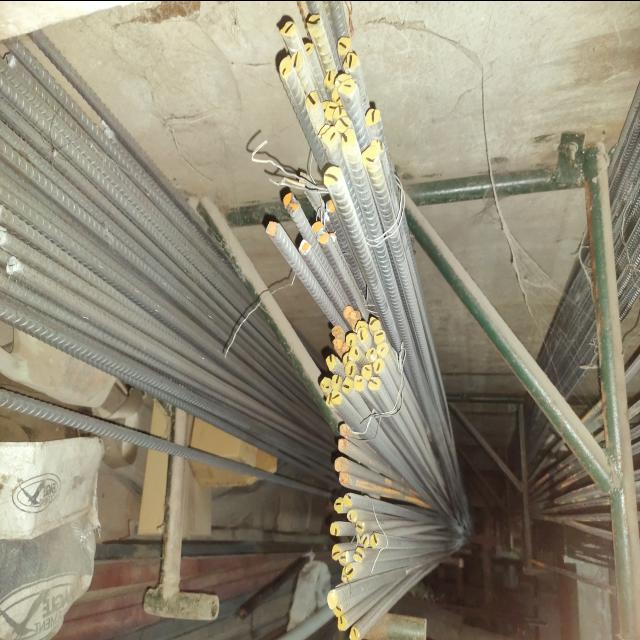Rebar: (325, 167, 341, 186), (364, 146, 378, 164), (346, 52, 361, 68), (367, 109, 381, 125), (338, 37, 352, 53), (341, 82, 356, 96), (336, 74, 350, 88), (308, 14, 322, 28), (326, 128, 339, 143), (338, 118, 351, 133), (327, 102, 338, 119), (329, 591, 339, 609), (373, 139, 385, 154), (345, 130, 357, 145), (284, 22, 296, 37), (326, 70, 336, 87), (308, 92, 318, 109), (294, 52, 304, 69), (283, 58, 293, 75), (347, 563, 357, 579), (369, 377, 381, 390), (374, 360, 386, 373), (378, 344, 390, 357), (375, 329, 387, 342), (370, 317, 382, 330), (300, 240, 311, 254), (319, 230, 330, 244), (314, 221, 325, 235), (335, 107, 347, 119), (334, 390, 344, 404), (333, 374, 343, 388), (345, 379, 355, 393), (356, 377, 366, 391), (363, 365, 373, 379), (368, 348, 378, 362), (336, 457, 346, 471), (360, 329, 370, 342), (347, 332, 357, 345), (350, 347, 360, 360), (347, 362, 357, 375), (328, 356, 338, 369), (322, 378, 332, 391), (332, 522, 341, 536), (333, 546, 342, 560), (357, 321, 369, 331), (336, 500, 346, 512), (349, 510, 359, 522), (306, 43, 316, 55), (372, 534, 380, 548), (363, 533, 371, 547), (355, 548, 363, 562), (341, 473, 350, 485), (340, 424, 350, 434), (339, 440, 349, 450), (341, 553, 350, 564), (339, 618, 348, 629), (350, 629, 359, 640), (343, 568, 349, 584), (334, 91, 342, 103), (327, 201, 335, 213), (291, 202, 299, 214), (286, 195, 294, 207), (269, 222, 277, 234), (346, 495, 354, 506), (357, 522, 365, 533), (327, 393, 333, 407), (352, 311, 360, 321), (346, 307, 354, 317), (334, 326, 342, 336), (336, 339, 344, 349), (335, 607, 343, 617), (343, 344, 351, 352)
